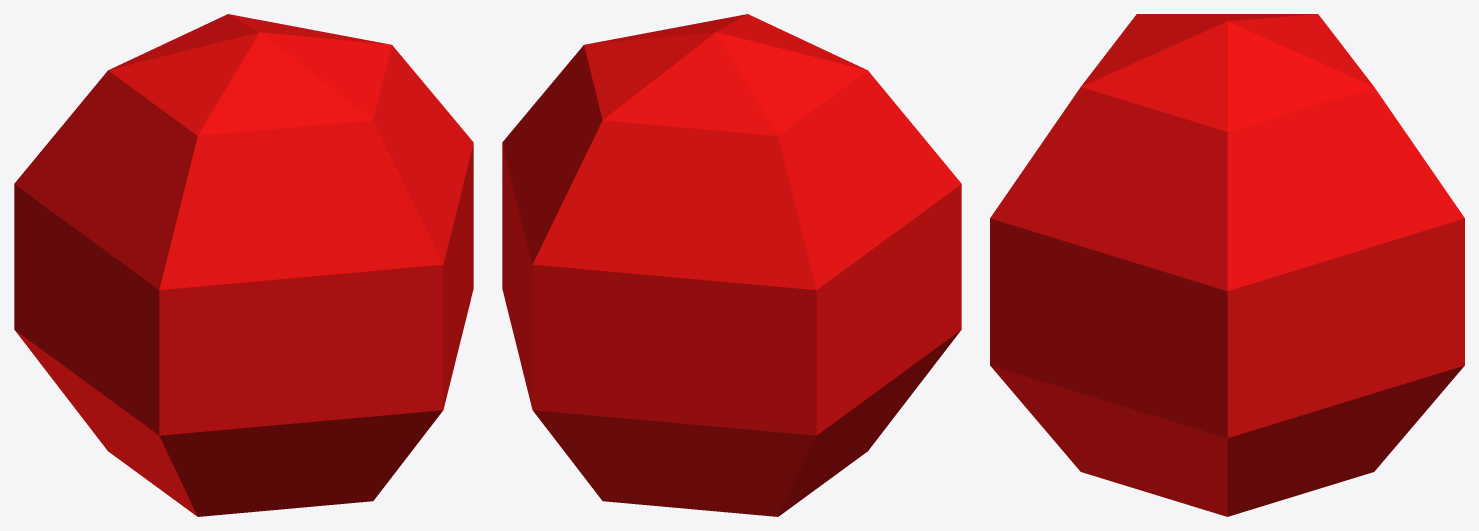
The model's file is trajectory_Red.FBX.
3 views of the same model, side by side, from view 1: azimuth 30°, elevation 25°; view 2: azimuth 150°, elevation 25°; view 3: azimuth 270°, elevation 25° (orthographic).
Parts seen in each view (by area): view 1: Sphere; view 2: Sphere; view 3: Sphere.
Boxes of the visible parts, x1,y1,x2,y2 form: Sphere: (14,14,473,516); Sphere: (502,14,961,516); Sphere: (990,14,1464,516).
Bounding box in the file's own units: 0.4301 × 0.4523 × 0.5.
